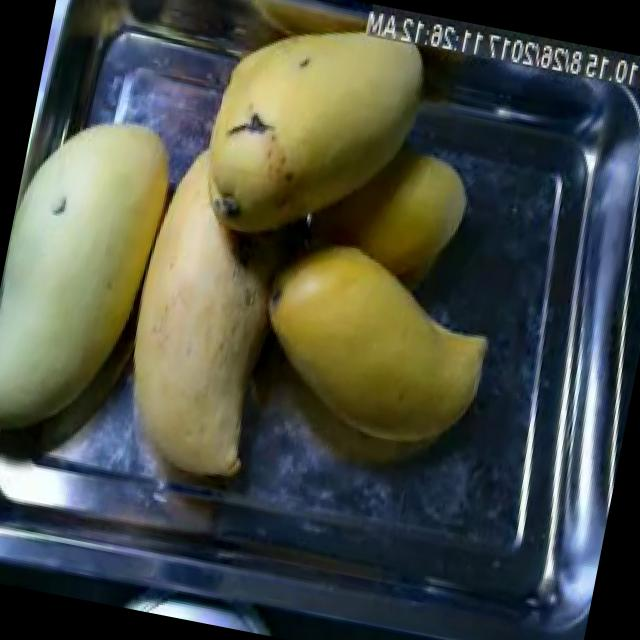fruit: (99, 156, 312, 501), (177, 0, 447, 269), (234, 218, 518, 472), (0, 84, 173, 470), (336, 136, 484, 293)
